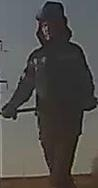gloves: (1, 94, 21, 122)
vest: (22, 41, 88, 131)
